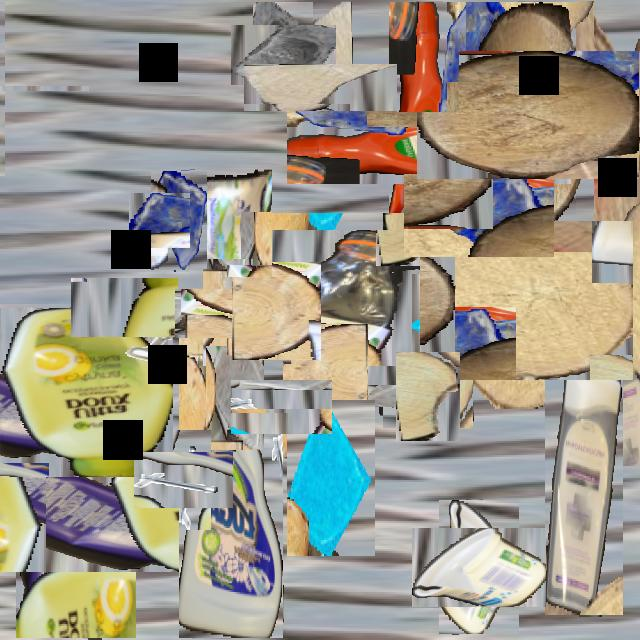glass: (287, 400, 375, 556), (420, 157, 538, 273), (242, 13, 324, 97), (397, 2, 459, 112), (206, 346, 264, 450), (436, 93, 514, 170), (140, 182, 218, 259)
metal: (83, 266, 167, 349), (144, 441, 222, 519), (592, 107, 640, 169)
plastic: (233, 221, 427, 415), (179, 301, 283, 638), (338, 53, 520, 235), (0, 418, 169, 605), (0, 306, 171, 479), (545, 366, 623, 615), (426, 513, 532, 621), (190, 164, 272, 278)
wood: (434, 207, 620, 394), (441, 27, 619, 204), (576, 1, 640, 468), (274, 32, 384, 142), (229, 264, 323, 358), (189, 274, 267, 352), (242, 368, 320, 446), (389, 358, 466, 435), (0, 44, 47, 133)
